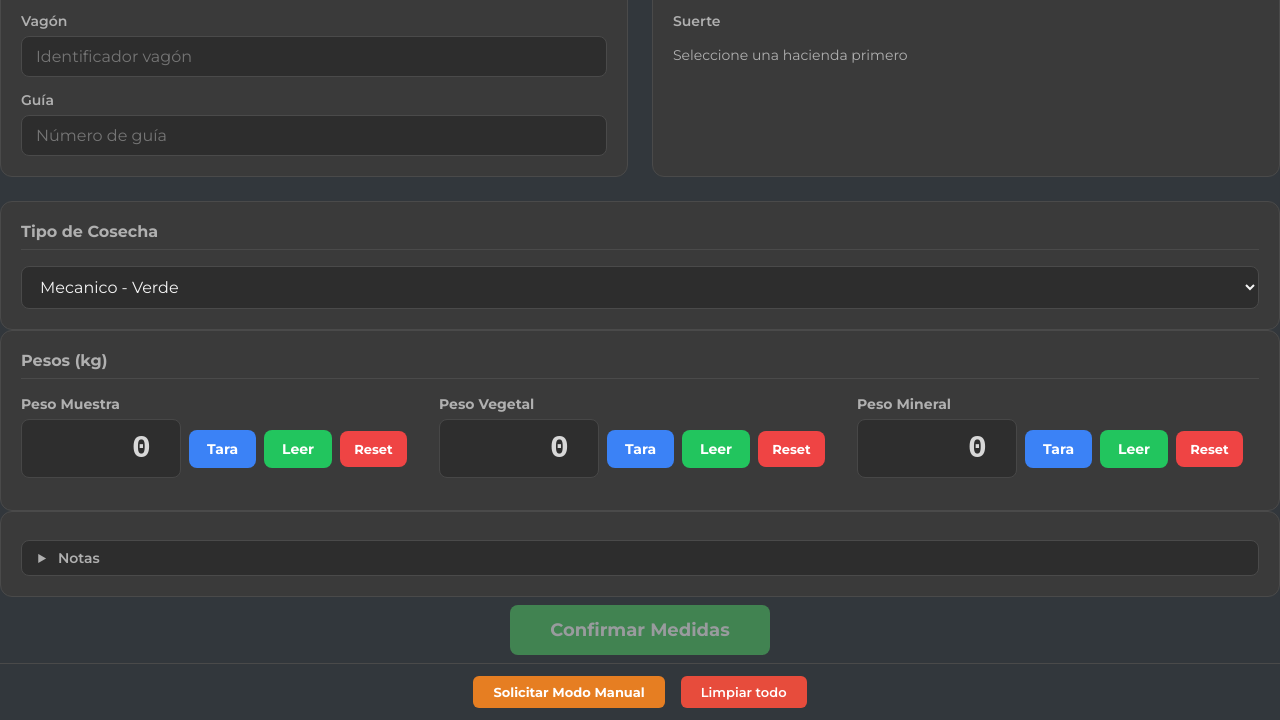
Test: KioskForm — R3: Reset general relegado a accion secundaria › muestra ConfirmModal al hacer clic en 'Limpiar todo'
(page scrolled)
Click the button "Limpiar todo": [744, 692] box [681, 676, 806, 708]
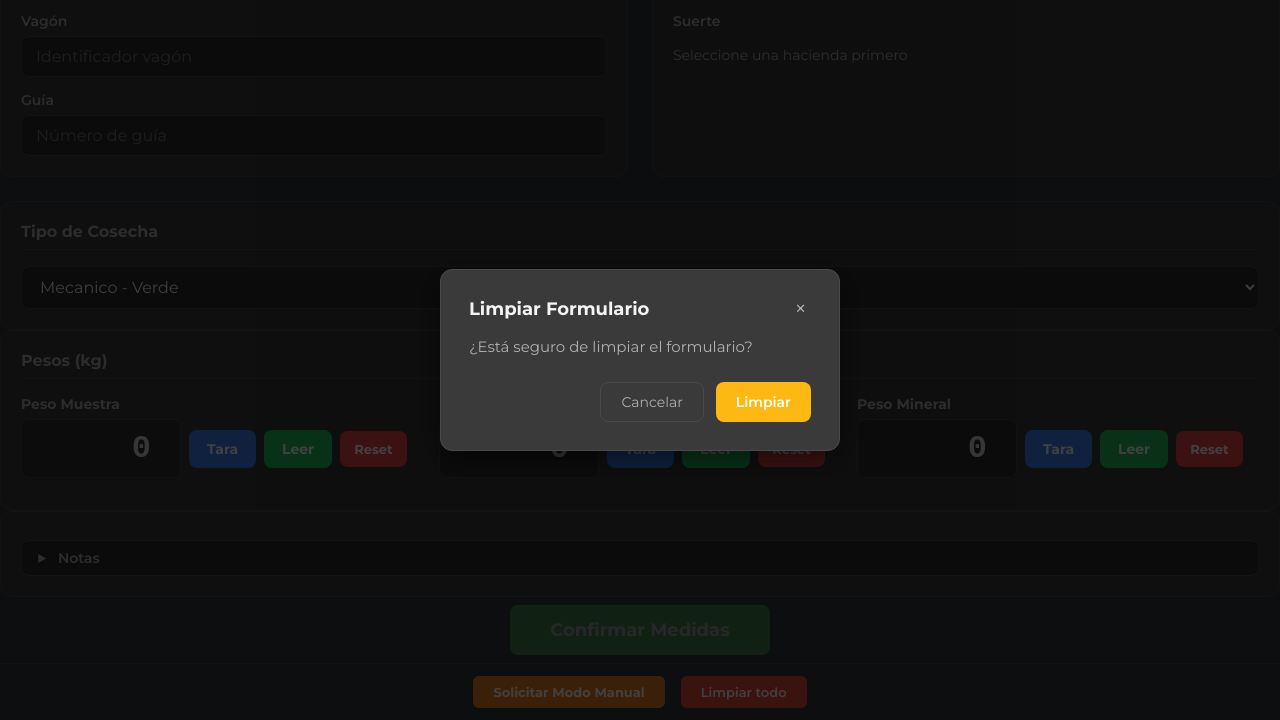
Result: the heading "Limpiar Formulario" is shown at [469, 298, 649, 320]
Result: the text "¿Está seguro de limpiar el formulario?" is shown at [469, 337, 753, 356]
Result: the button "Limpiar" is shown at [716, 382, 811, 422]
